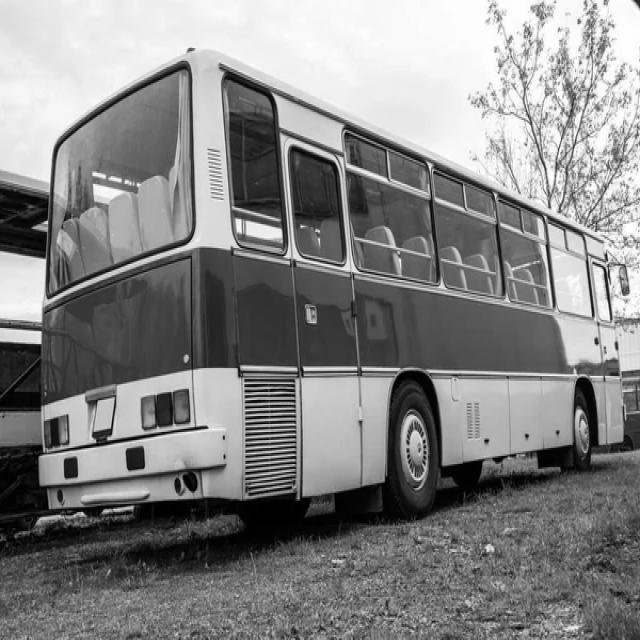Bus: (38, 51, 623, 532)
